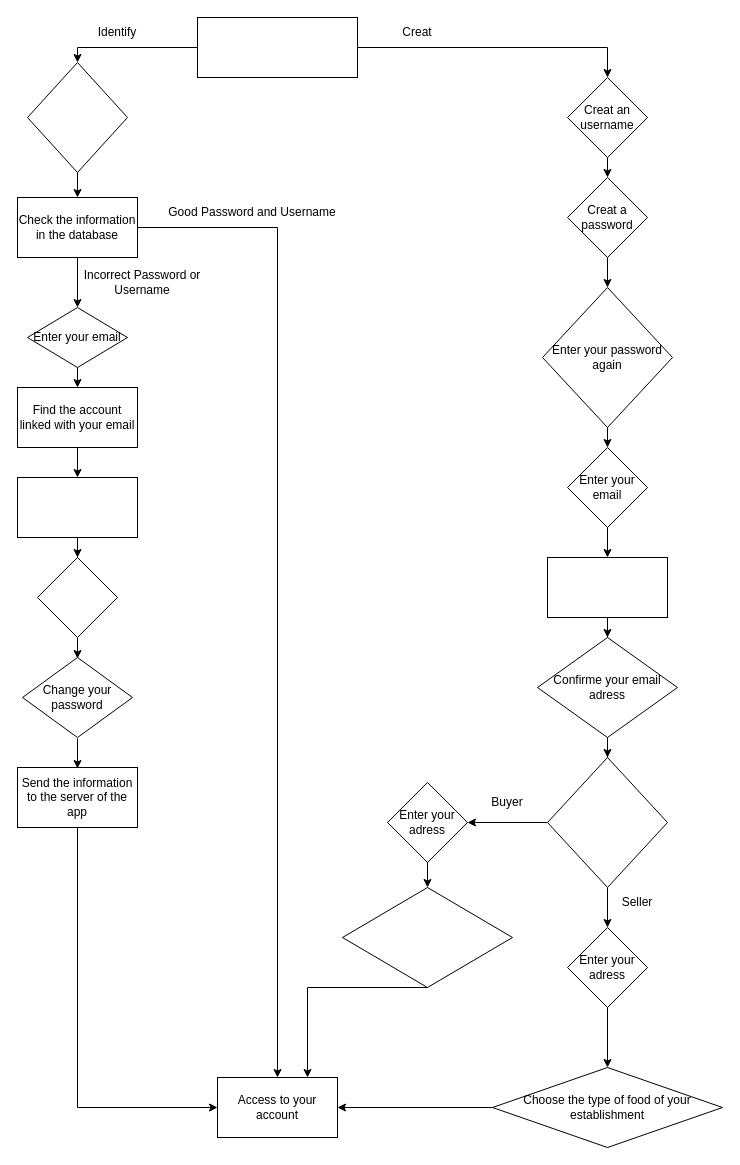
Some shapes in this 740 by 1165 pixel diagram are drawn without their labels. The centre of each missing label's shape, as x and y in pixels:
"Ask to identify of to creat an account" belongs at pixel 277 47.
"Choose if you are a buyer or a seller" belongs at pixel 607 822.
"Choose your favorite dish among categories" belongs at pixel 427 937.
"Click the link" belongs at pixel 77 597.
"Enter an username and a password" belongs at pixel 77 117.
"Send a link to recover your password to the email adress" belongs at pixel 77 507.
"Send an email to confirme your adress" belongs at pixel 607 587.
